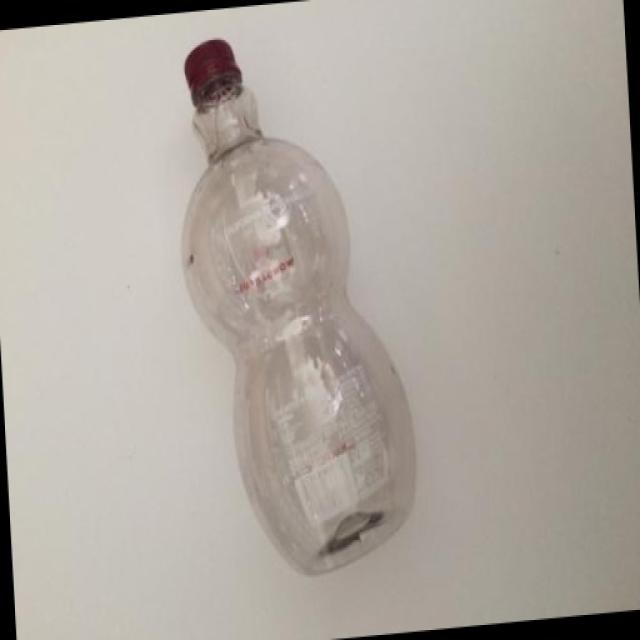plastico: (172, 19, 440, 630)
